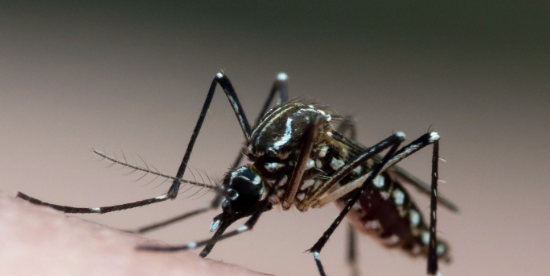dengue_mosquito: (17, 69, 451, 266)
